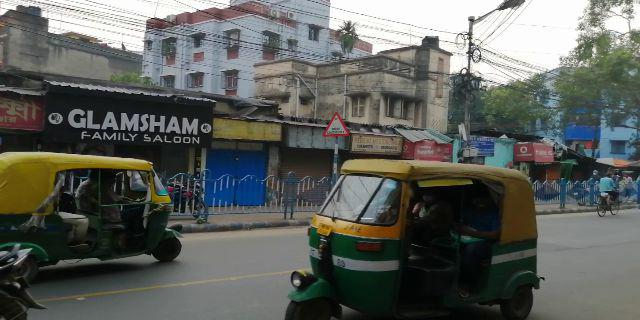Autorickshaw: (290, 163, 549, 312), (4, 155, 183, 267)
